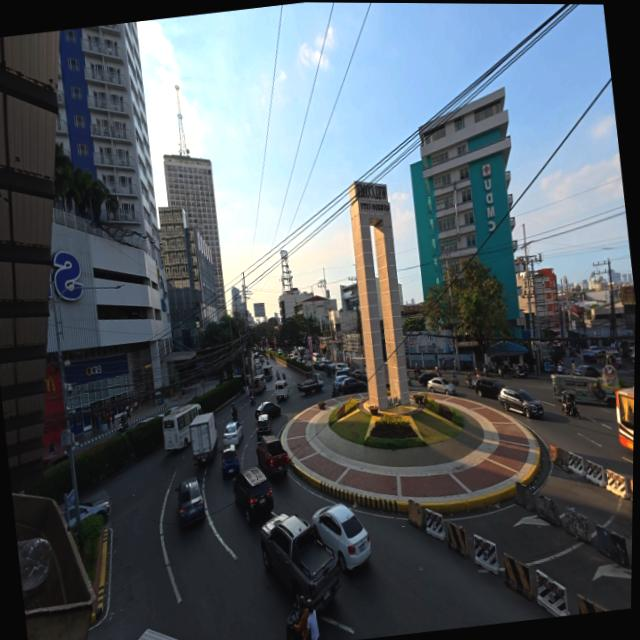car: (495, 384, 543, 422), (254, 398, 282, 419)
